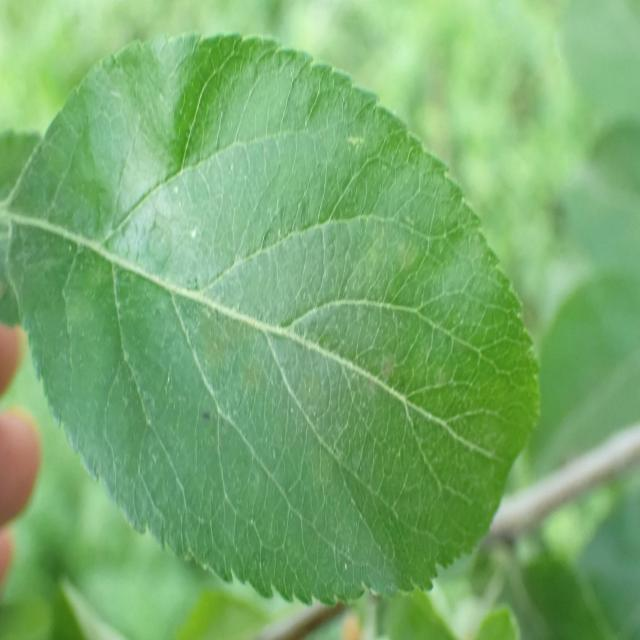scab: (126, 103, 505, 514)
